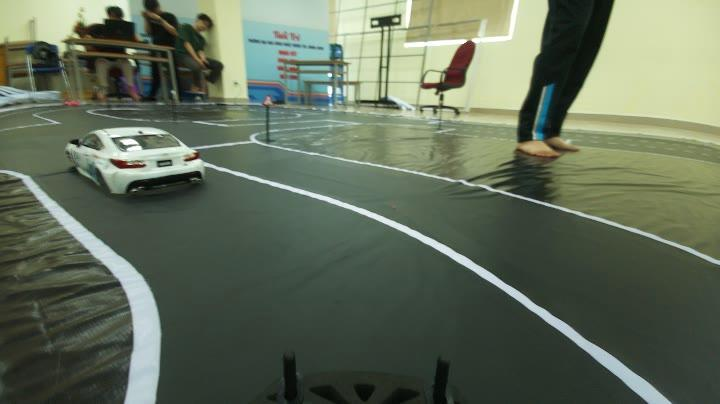car: (58, 124, 209, 196)
